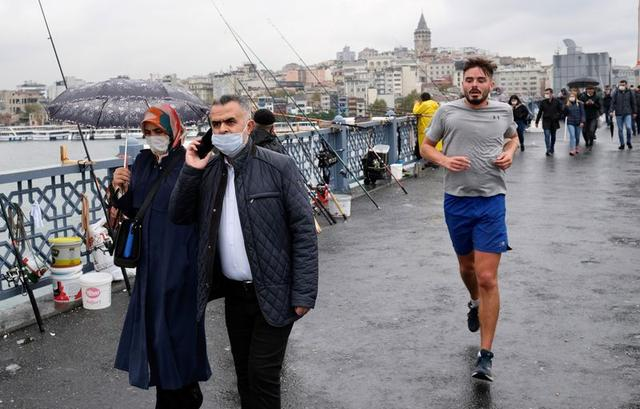with_incorrect_mask: (207, 112, 248, 157)
with_mask: (141, 124, 171, 154)
without_mask: (463, 68, 490, 103)
